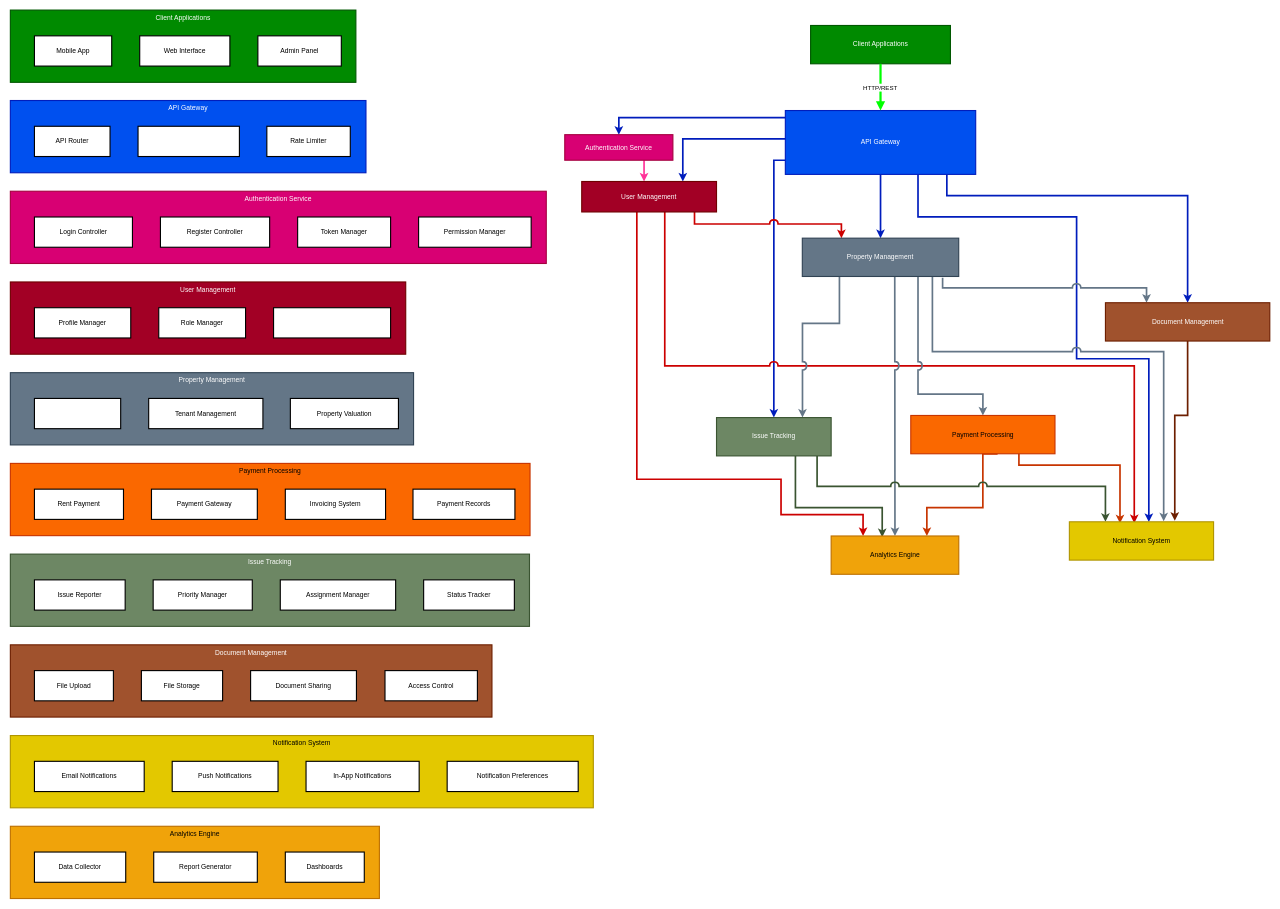
This 1280x909 diagram has some shape labels left out. Each missing label, with the centre of its shape:
Auth Middleware: the point at 188,141
Preferences Manager: the point at 332,322
Property Info: the point at 77,413
